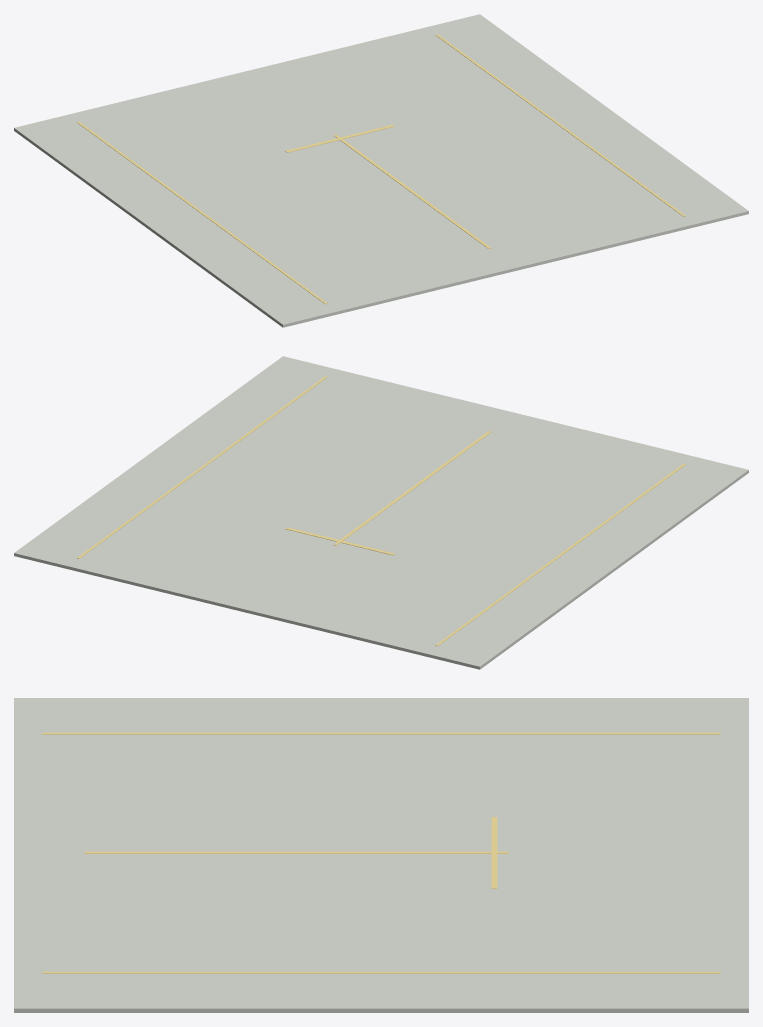
Rendered from apron_stand.glb.
3 renders of one model, top to bottom at view 1: azimuth 30°, elevation 25°; view 2: azimuth 150°, elevation 25°; view 3: azimuth 270°, elevation 25°, orthographic. The views are drawn at different scales.
Visible parts, largest first — view 1: apron_stand__parking_surface, apron_stand__stand_edge.001, apron_stand__stand_edge, apron_stand__stand_center; view 2: apron_stand__parking_surface, apron_stand__stand_edge.001, apron_stand__stand_edge, apron_stand__stand_center; view 3: apron_stand__parking_surface, apron_stand__stand_edge, apron_stand__stand_edge.001, apron_stand__stand_center.
Part boxes in pixels (x1=…): apron_stand__parking_surface: x1=14, y1=14, x2=748, y2=327; apron_stand__stand_edge.001: x1=435, y1=34, x2=685, y2=216; apron_stand__stand_edge: x1=77, y1=122, x2=327, y2=304; apron_stand__stand_center: x1=333, y1=134, x2=491, y2=248; apron_stand__parking_surface: x1=14, y1=356, x2=748, y2=669; apron_stand__stand_edge.001: x1=77, y1=376, x2=327, y2=558; apron_stand__stand_edge: x1=435, y1=464, x2=685, y2=646; apron_stand__stand_center: x1=333, y1=431, x2=491, y2=545; apron_stand__parking_surface: x1=14, y1=698, x2=748, y2=1012; apron_stand__stand_edge: x1=42, y1=732, x2=720, y2=734; apron_stand__stand_edge.001: x1=42, y1=971, x2=720, y2=973; apron_stand__stand_center: x1=84, y1=851, x2=508, y2=853.
Bounding box in the file's own units: 26 × 0.19 × 26.
